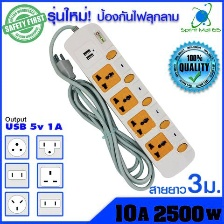three_eye_plug: (62, 19, 197, 179)
